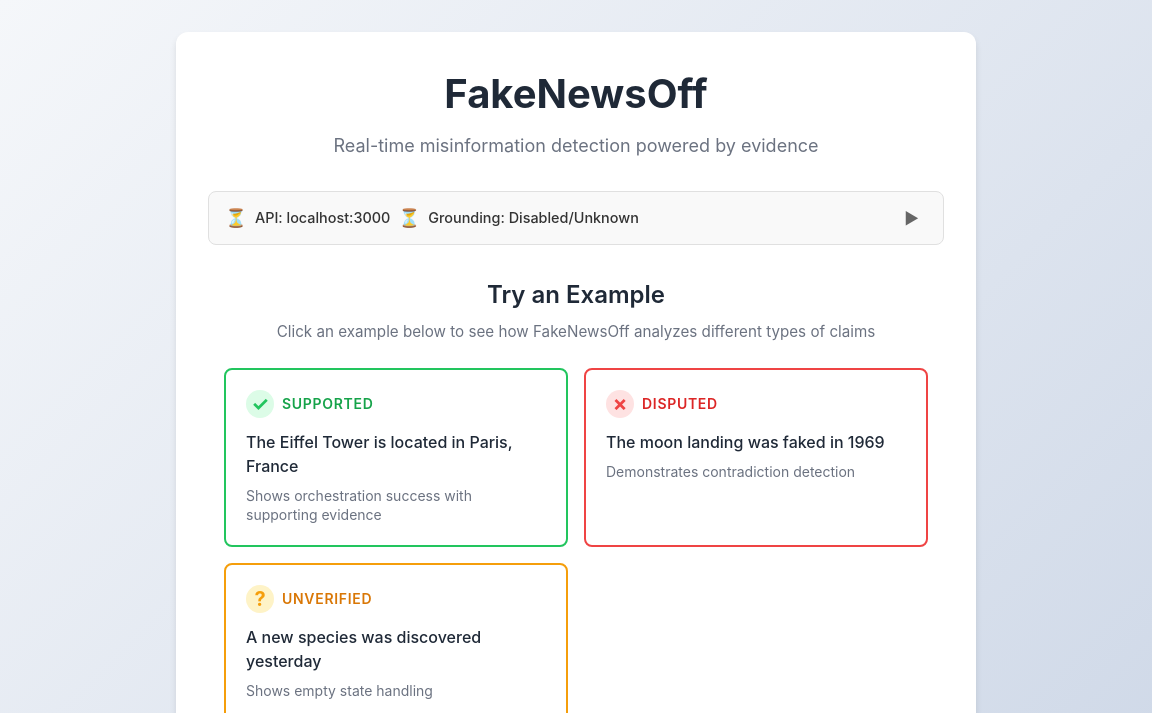
Test case: Home › auto-fills input when example claim is clicked
Click the button "The Eiffel Tower is located in Paris, France" at (328, 404), box [224,368,568,547]
(page scrolled)
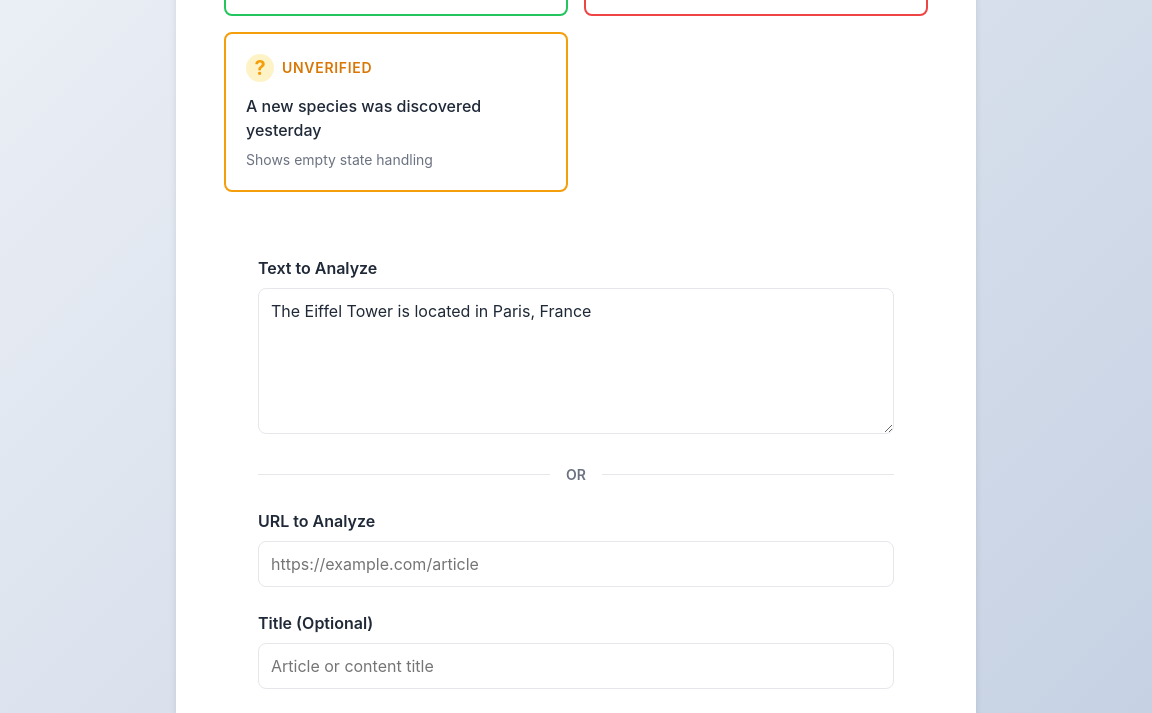
Result: the text box labelled "Text to Analyze" holds "The Eiffel Tower is located in Paris, France" at [258,288,894,434]
